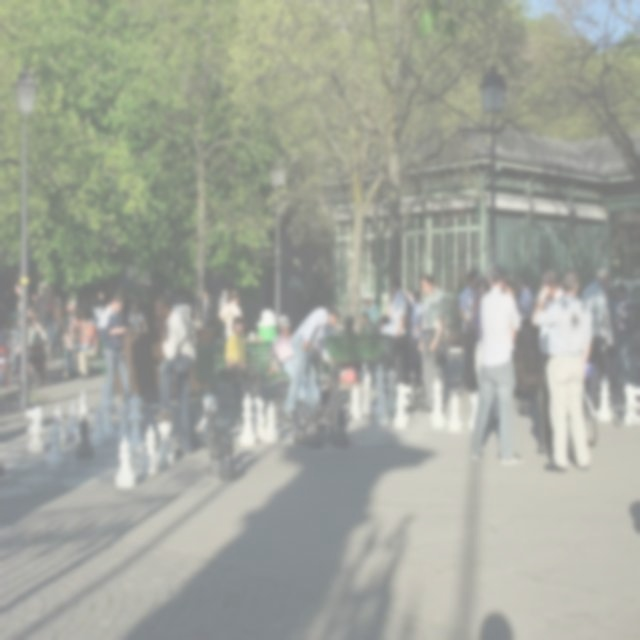pessoa: (530, 269, 594, 472), (470, 263, 524, 467), (153, 290, 199, 454), (281, 306, 341, 425), (533, 266, 565, 458), (578, 265, 616, 424), (262, 314, 321, 416), (223, 314, 266, 425), (416, 271, 448, 414), (96, 292, 134, 405), (387, 273, 414, 387), (10, 308, 46, 387), (469, 280, 492, 396), (458, 268, 479, 390), (506, 274, 526, 396), (614, 282, 634, 388), (194, 286, 217, 372), (336, 314, 364, 384), (72, 312, 100, 380), (357, 308, 382, 382), (14, 278, 34, 368), (624, 286, 639, 388), (605, 276, 618, 392), (409, 288, 425, 382), (217, 288, 244, 342), (62, 310, 82, 378), (316, 314, 342, 366), (44, 284, 60, 356), (515, 272, 535, 326), (31, 286, 49, 342), (92, 288, 106, 360), (126, 300, 148, 334), (0, 320, 10, 390), (52, 296, 64, 354), (362, 290, 381, 326), (65, 294, 77, 340), (217, 287, 230, 312), (404, 287, 416, 307), (32, 292, 38, 301)
